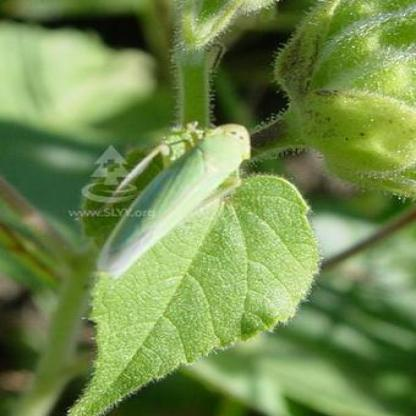Green-Leafhopper: (81, 123, 265, 283)
